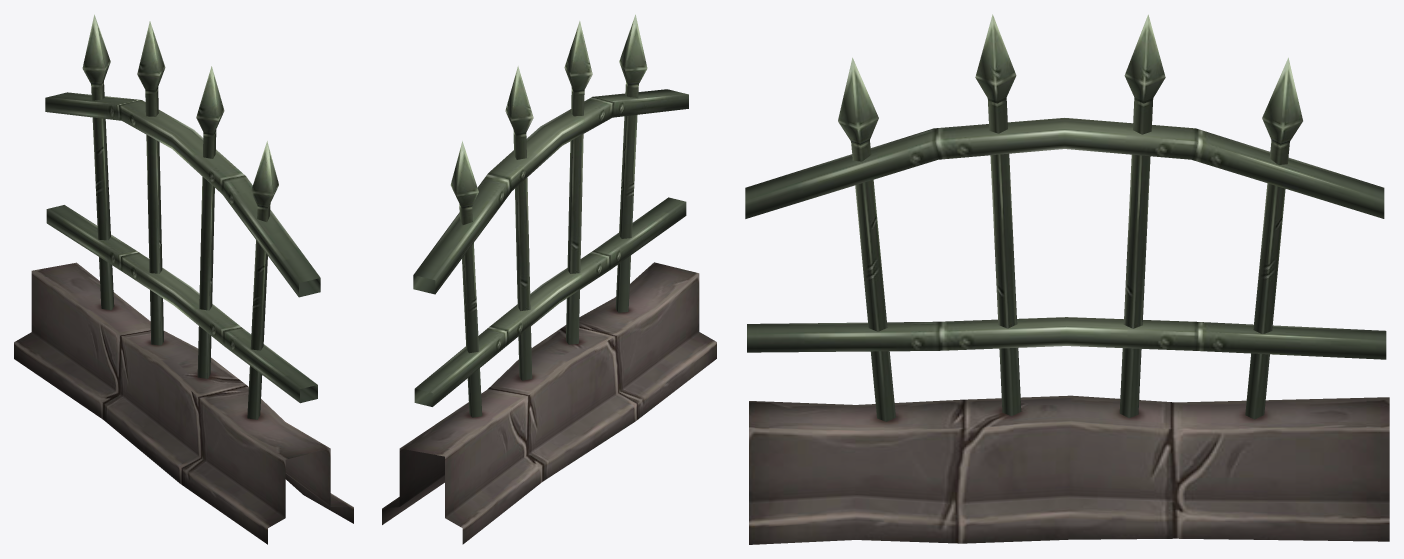
File: fence_b.glb
The picture shows the model from 3 angles, left to right: view 1: azimuth 30°, elevation 25°; view 2: azimuth 150°, elevation 25°; view 3: azimuth 270°, elevation 25°; orthographic projection. The views are drawn at different scales.
Parts seen in each view (by area): view 1: untitled.002; view 2: untitled.002; view 3: untitled.002.
Boxes of the visible parts, left/top/right/bottom form: untitled.002: left=14, top=14, right=353, bottom=544; untitled.002: left=382, top=14, right=716, bottom=544; untitled.002: left=745, top=14, right=1389, bottom=544.
Size of the model in its own units: 0.5812 by 2.49 by 2.89.
Materials: 1 (1 with a texture image).
